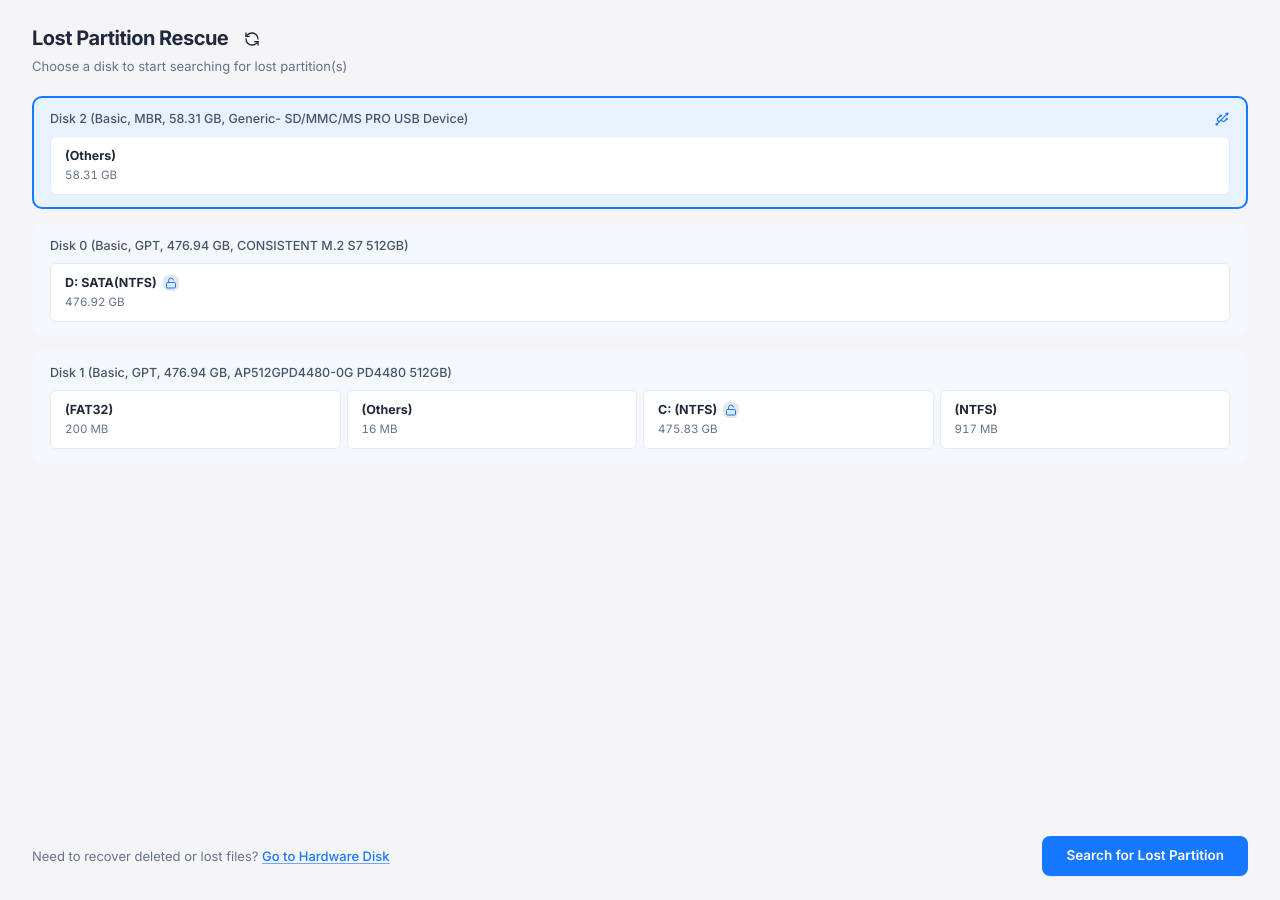
Test: reference UI surfaces and sidebar › renders Lost Partition Rescue directly on Disk Selection -> Smart Partition Scan Completed
The width and height of the screenshot is (1280, 900).
Expected: the heading "Lost Partition Rescue" is shown, [32, 24, 228, 53]
Expected: the text "Choose a disk to start searching for lost partition(s)" is shown, [32, 58, 347, 74]
Click the button "Search for Lost Partition". click: (1145, 856)
box: [1042, 836, 1248, 876]
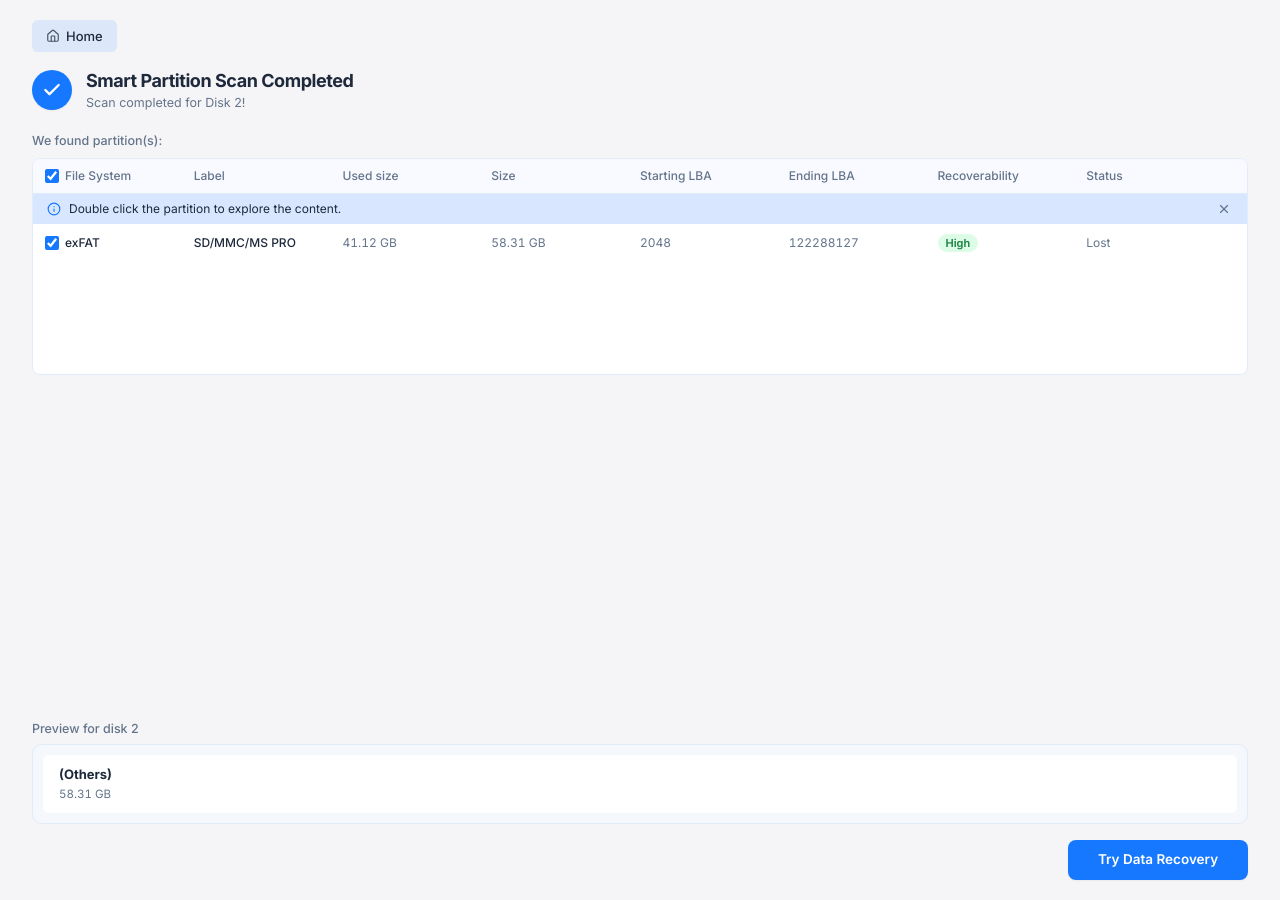
Expected: the heading "Smart Partition Scan Completed" is shown, [86, 68, 353, 94]
Expected: the button "Try Data Recovery" is shown, [1068, 840, 1248, 880]
